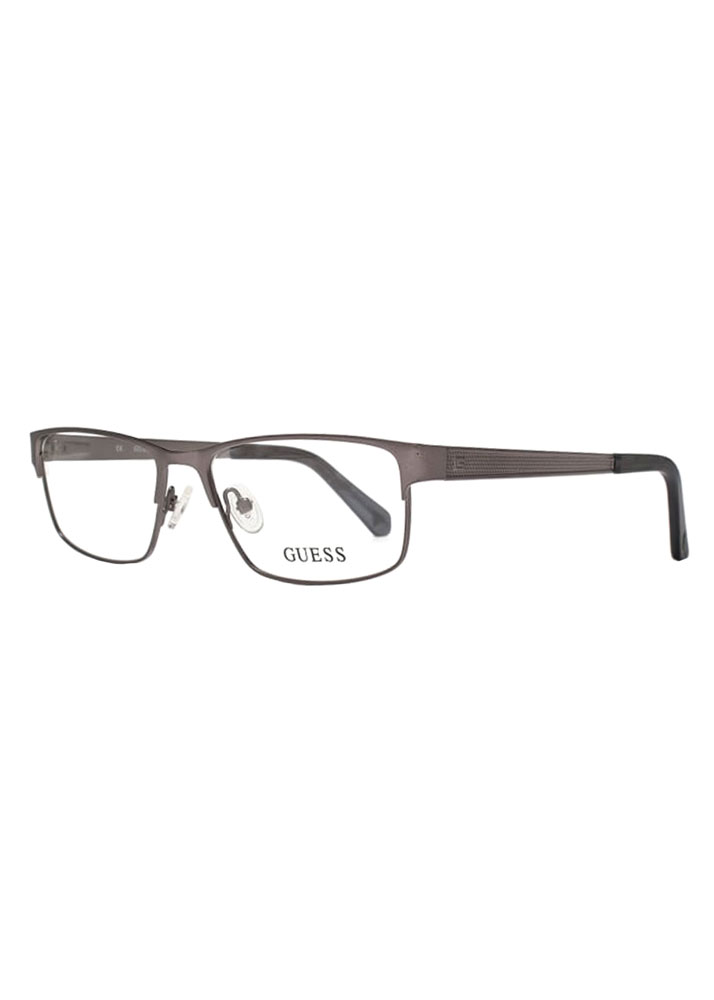Guess: (275, 539, 352, 572)
